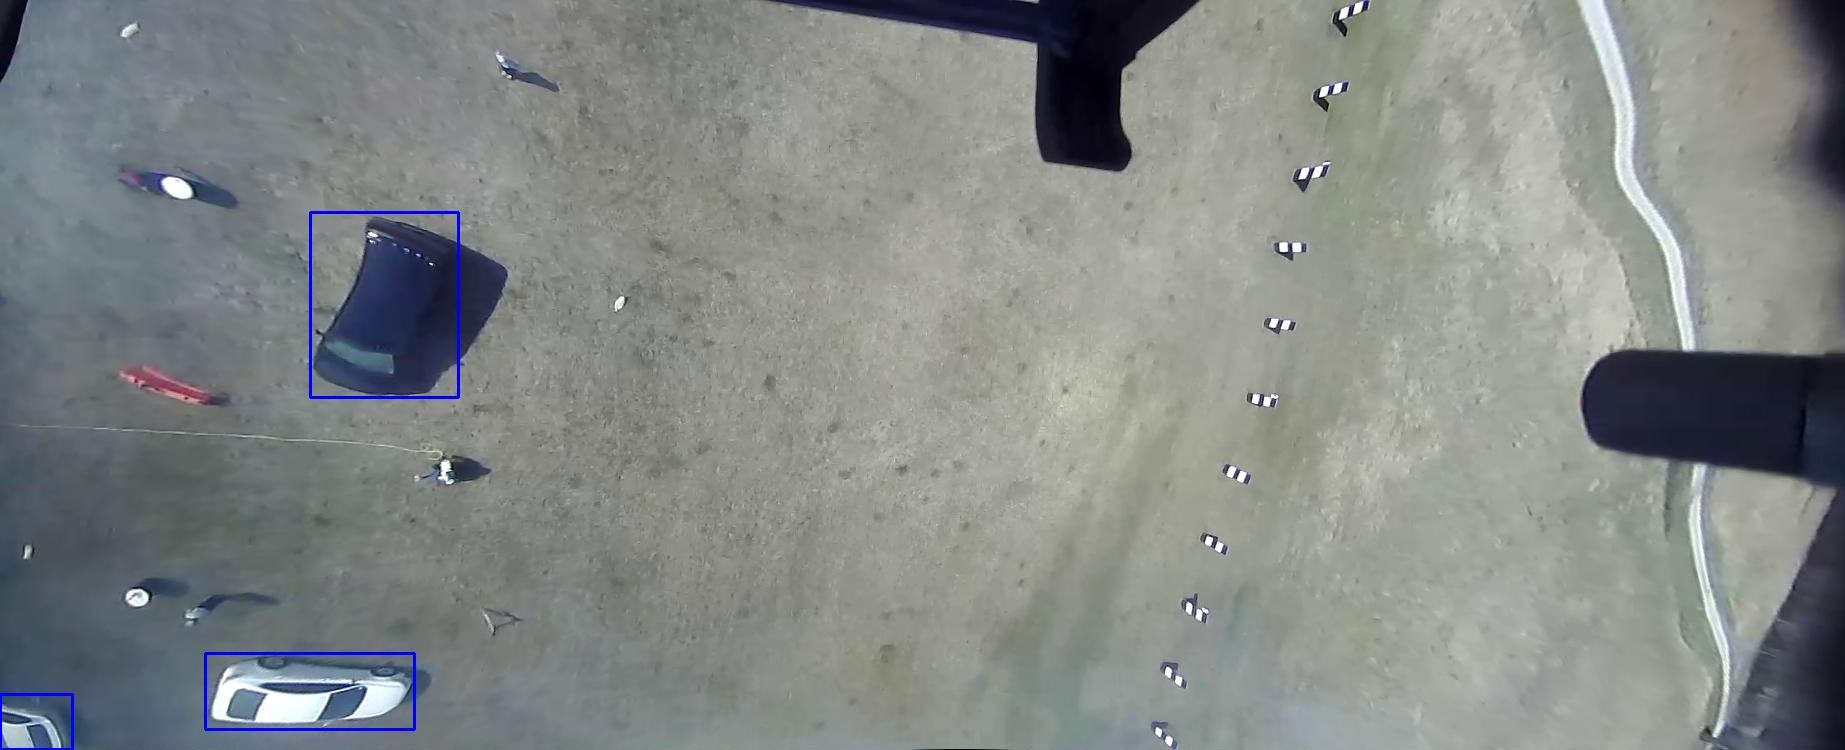vehicle: (212, 310, 397, 458), (653, 205, 730, 414), (694, 0, 750, 72)
